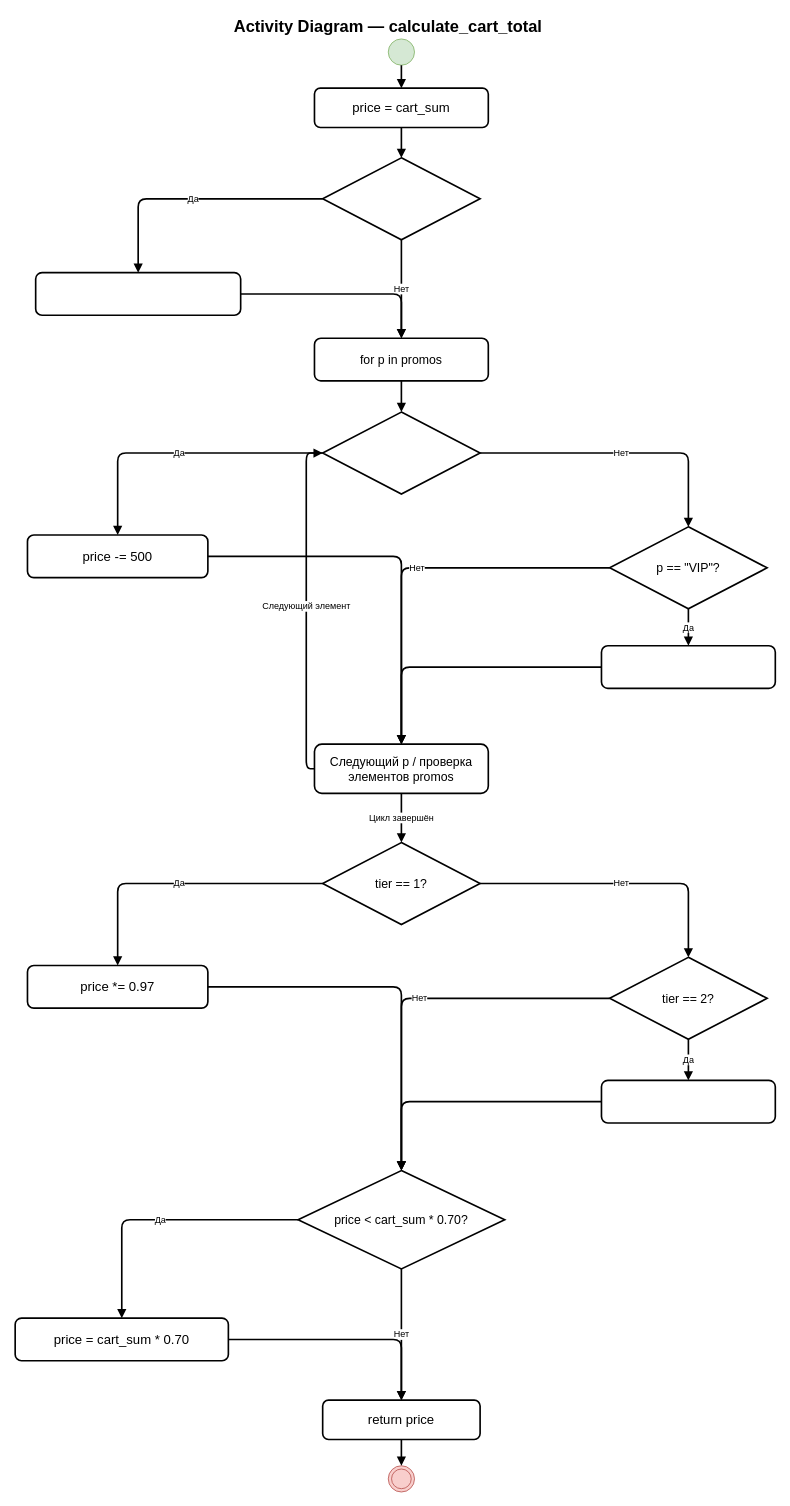
Some shapes in this 790 by 1506 pixel diagram are drawn without their labels. Here are the shapes that lost their labels. From the top down, the centre of each, then its label:
pixel 401 198: cart_sum > 15000?
pixel 137 293: price = cart_sum * 0.85
pixel 401 452: p == "SUMMER"?
pixel 688 667: price *= 0.90
pixel 688 1101: price *= 0.93
